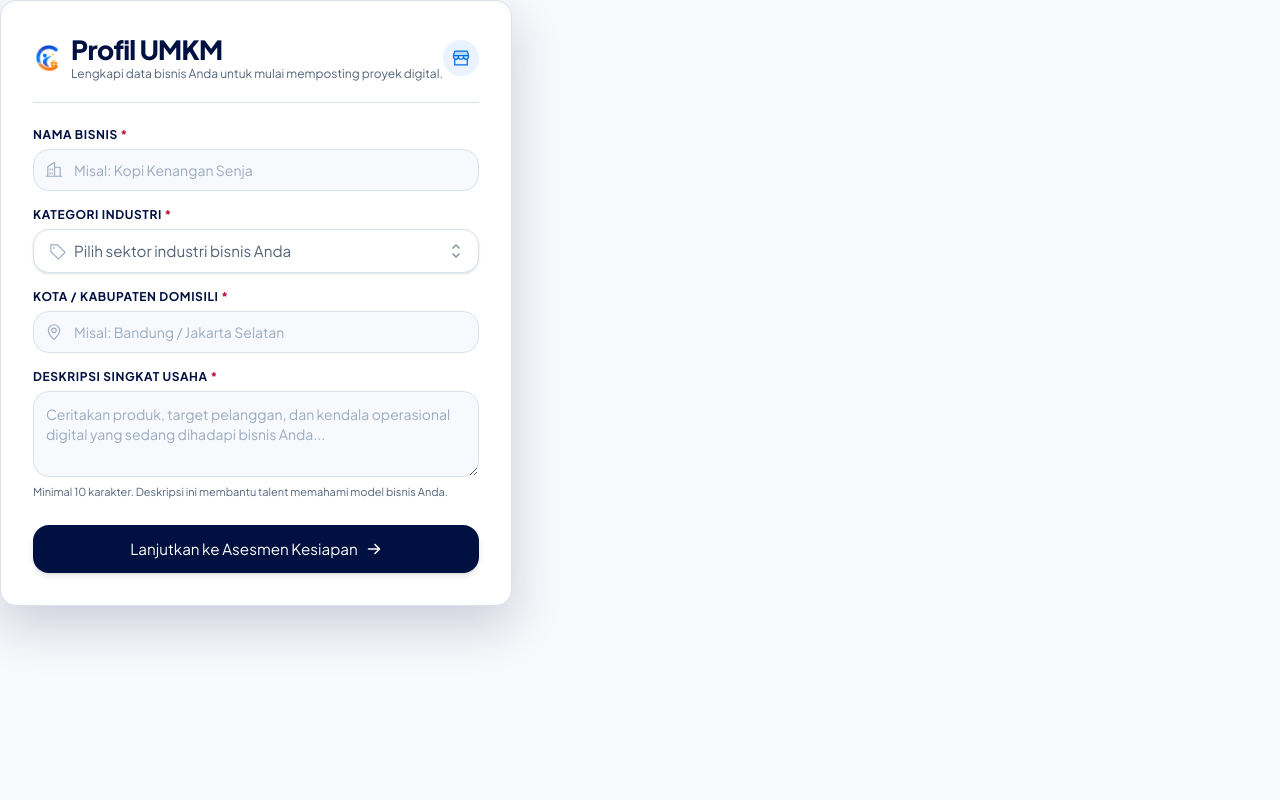
Scenario: BusinessOnboardingWizard › validates required fields before sending request
Click the button "Lanjutkan ke Asesmen Kesiapan": point(256, 549) x1=33 y1=525 x2=479 y2=573
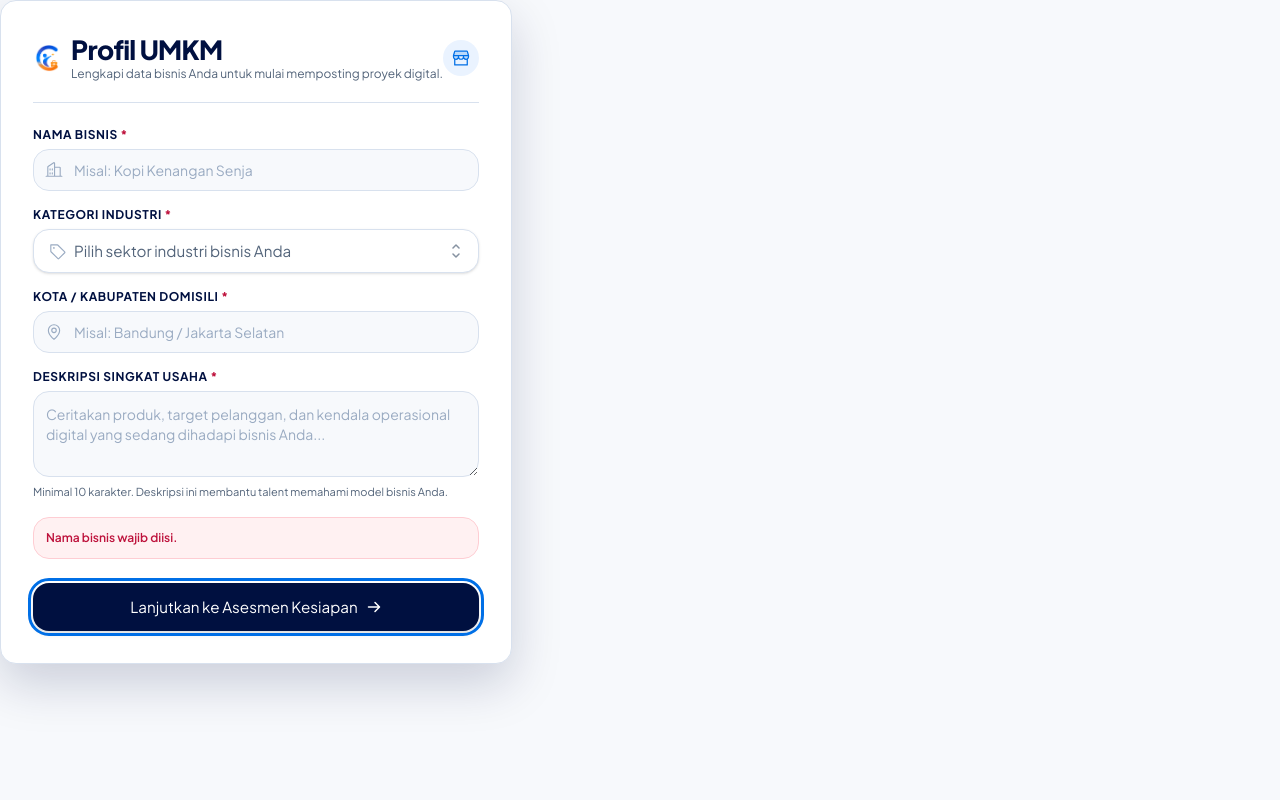
Expected: the message reads "Nama bisnis wajib diisi.", x1=46 y1=530 x2=177 y2=545
